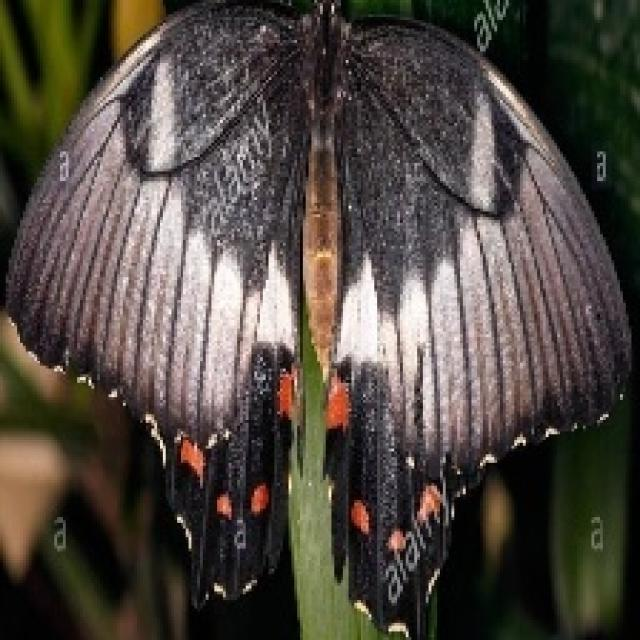butterfly: (3, 0, 631, 637)
